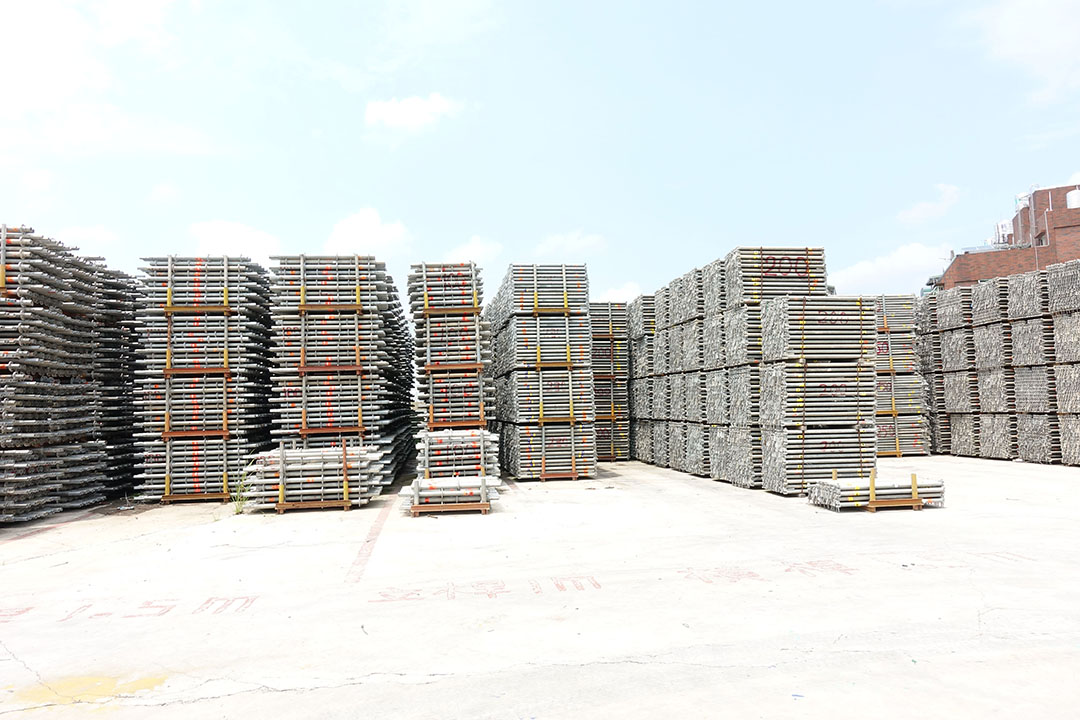building materials: (130, 378, 250, 440), (129, 441, 247, 504), (133, 316, 252, 377), (137, 252, 252, 315), (269, 251, 380, 314), (269, 376, 383, 436), (271, 314, 381, 376), (783, 294, 878, 363), (783, 429, 879, 497), (781, 362, 878, 429), (736, 246, 829, 304), (413, 432, 502, 490), (511, 370, 597, 425), (508, 261, 591, 317), (514, 427, 600, 481), (511, 316, 594, 371), (417, 373, 494, 430), (411, 260, 483, 318), (415, 318, 490, 372)
